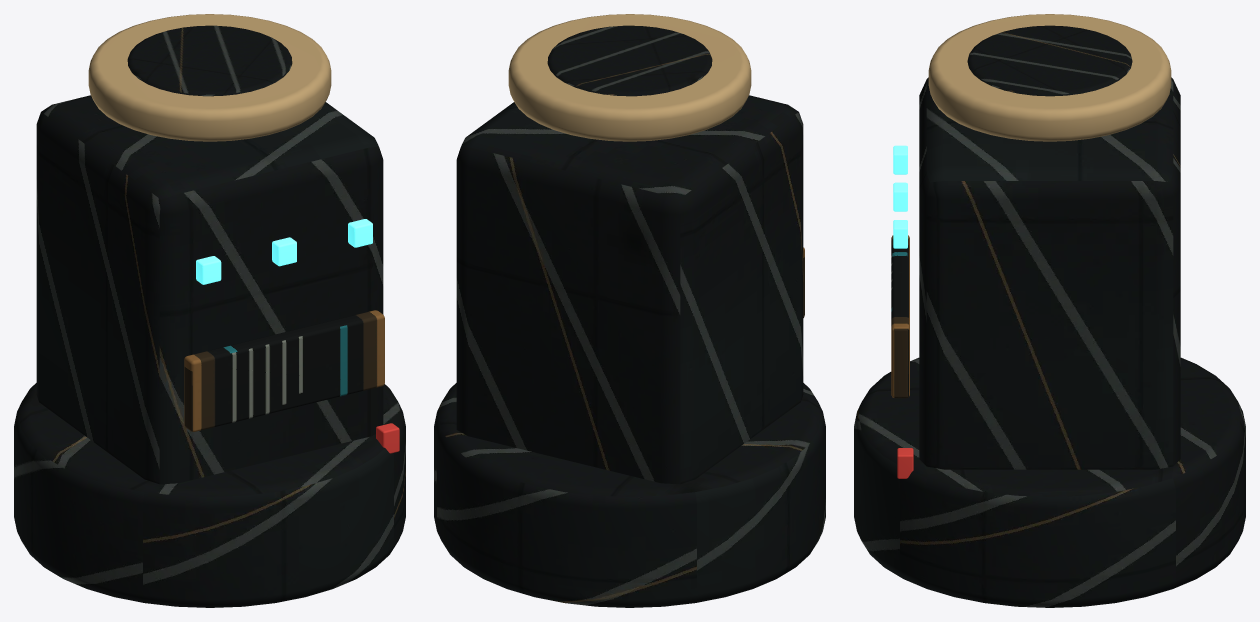
File: hp_room_museum_color_orb_pedestal.glb
The picture shows the model from 3 angles, left to right: view 1: azimuth 30°, elevation 25°; view 2: azimuth 150°, elevation 25°; view 3: azimuth 270°, elevation 25°; orthographic projection.
Parts seen in each view (by area): view 1: inner_shadow_socket_not_target, orb_pedestal_base, empty_hit_orb_mount_ring, orb_pedestal_label, pedestal_hit_registration_tick_0, wrong_order_red_mini_indicator; view 2: inner_shadow_socket_not_target, orb_pedestal_base, empty_hit_orb_mount_ring; view 3: inner_shadow_socket_not_target, orb_pedestal_base, empty_hit_orb_mount_ring, orb_pedestal_label, pedestal_hit_registration_tick_0.
Part boxes in pixels (x1=…): inner_shadow_socket_not_target: x1=36, y1=25, x2=383, y2=484; orb_pedestal_base: x1=14, y1=383, x2=405, y2=607; empty_hit_orb_mount_ring: x1=88, y1=14, x2=331, y2=141; orb_pedestal_label: x1=184, y1=310, x2=384, y2=431; pedestal_hit_registration_tick_0: x1=196, y1=219, x2=372, y2=284; wrong_order_red_mini_indicator: x1=376, y1=423, x2=399, y2=453; inner_shadow_socket_not_target: x1=456, y1=25, x2=803, y2=484; orb_pedestal_base: x1=434, y1=383, x2=825, y2=607; empty_hit_orb_mount_ring: x1=508, y1=14, x2=751, y2=141; inner_shadow_socket_not_target: x1=919, y1=25, x2=1180, y2=469; orb_pedestal_base: x1=854, y1=357, x2=1245, y2=607; empty_hit_orb_mount_ring: x1=928, y1=14, x2=1171, y2=141; orb_pedestal_label: x1=891, y1=235, x2=909, y2=398; pedestal_hit_registration_tick_0: x1=893, y1=145, x2=907, y2=248.
Bounding box in the file's own units: 0.6619 × 0.8811 × 0.6619.
6 materials, 3 textured.
